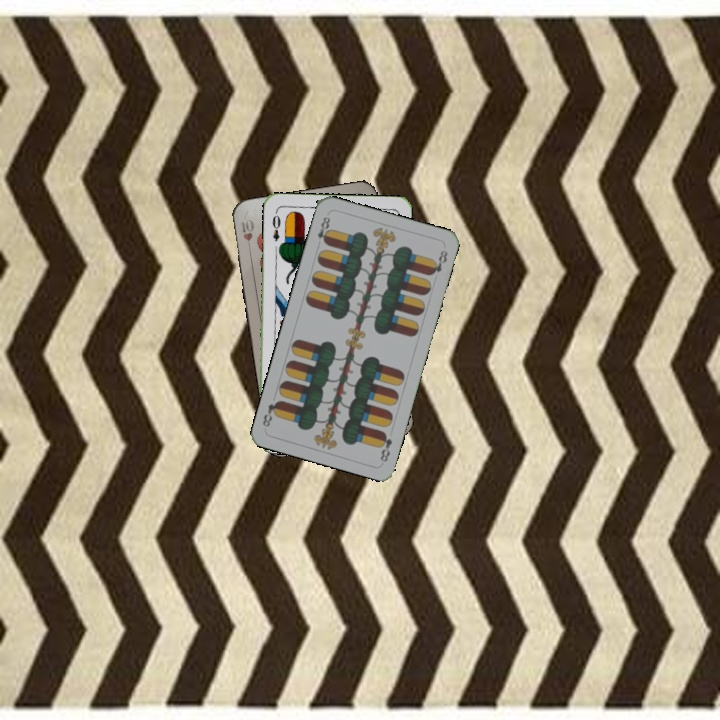E8: (313, 212, 333, 250), (376, 428, 395, 465)
EO: (268, 208, 283, 244)
H10: (237, 215, 256, 254)
